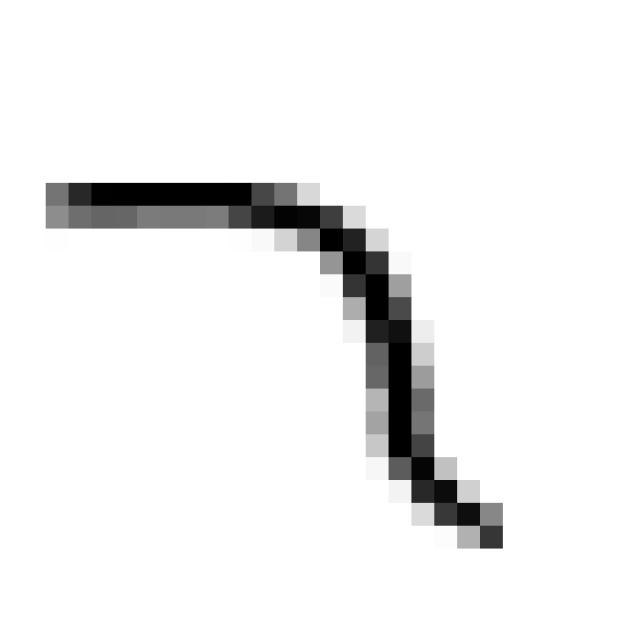6 -six-: (32, 162, 527, 565)
